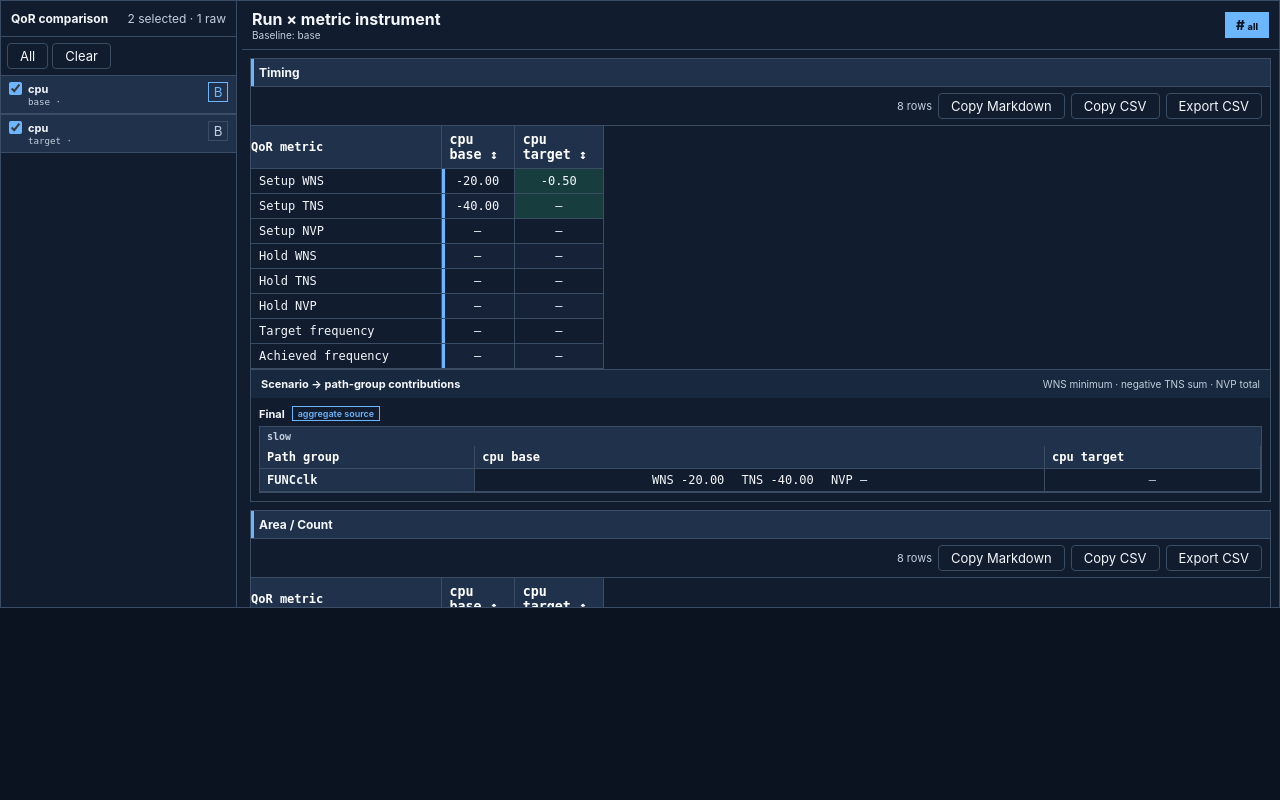
Test: DcReportPanel picker effects › offers scenario and path-group timing scopes in the picker
Click the button "# all". click: [1247, 25]
box: [1225, 12, 1269, 38]
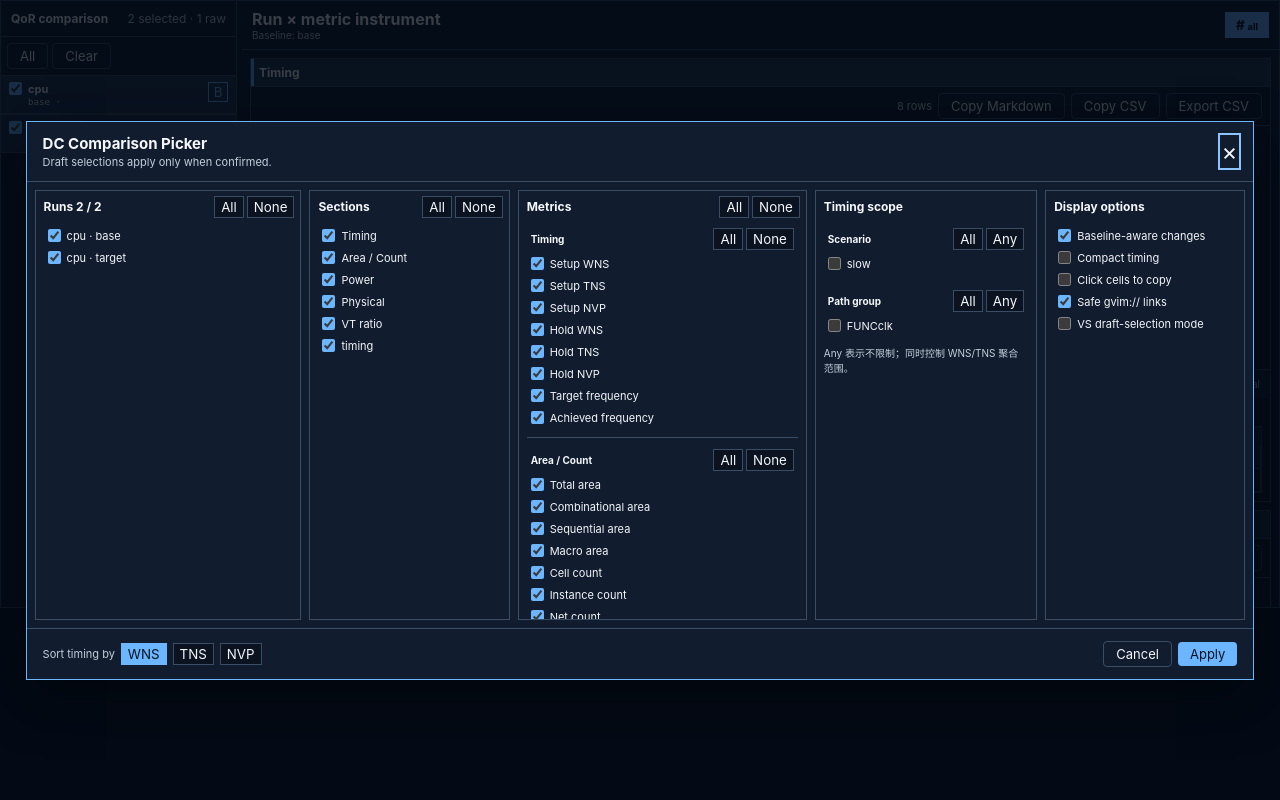
Now the dialog shows "Timing scope", box [824, 198, 903, 214]
Now the dialog shows "slow", box [847, 256, 871, 270]
Now the dialog shows "FUNCclk", box [847, 318, 893, 332]
